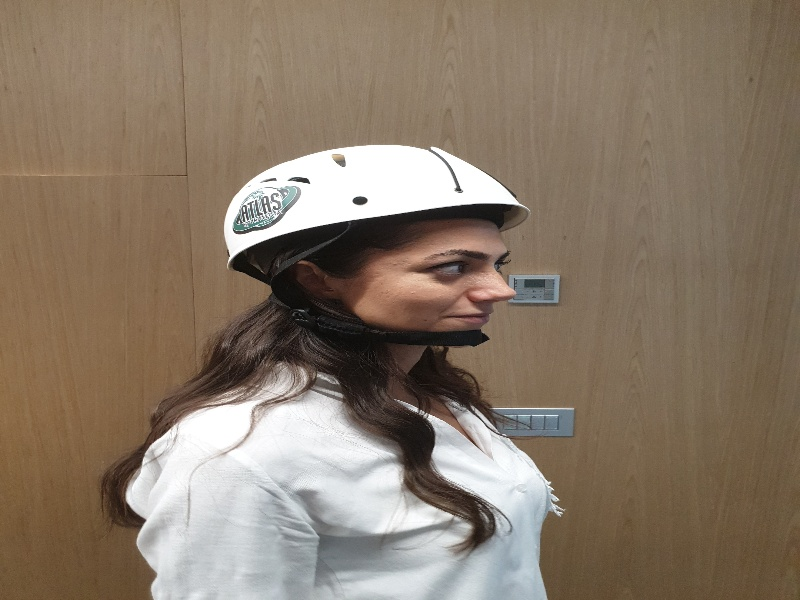Baret: (222, 144, 530, 254)
